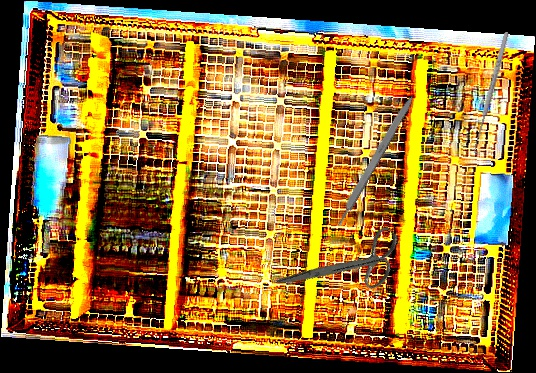Hook Surgical: (470, 31, 515, 155)
Iris Scissors: (275, 195, 414, 336)
Scalpel Handle: (333, 91, 417, 227)
